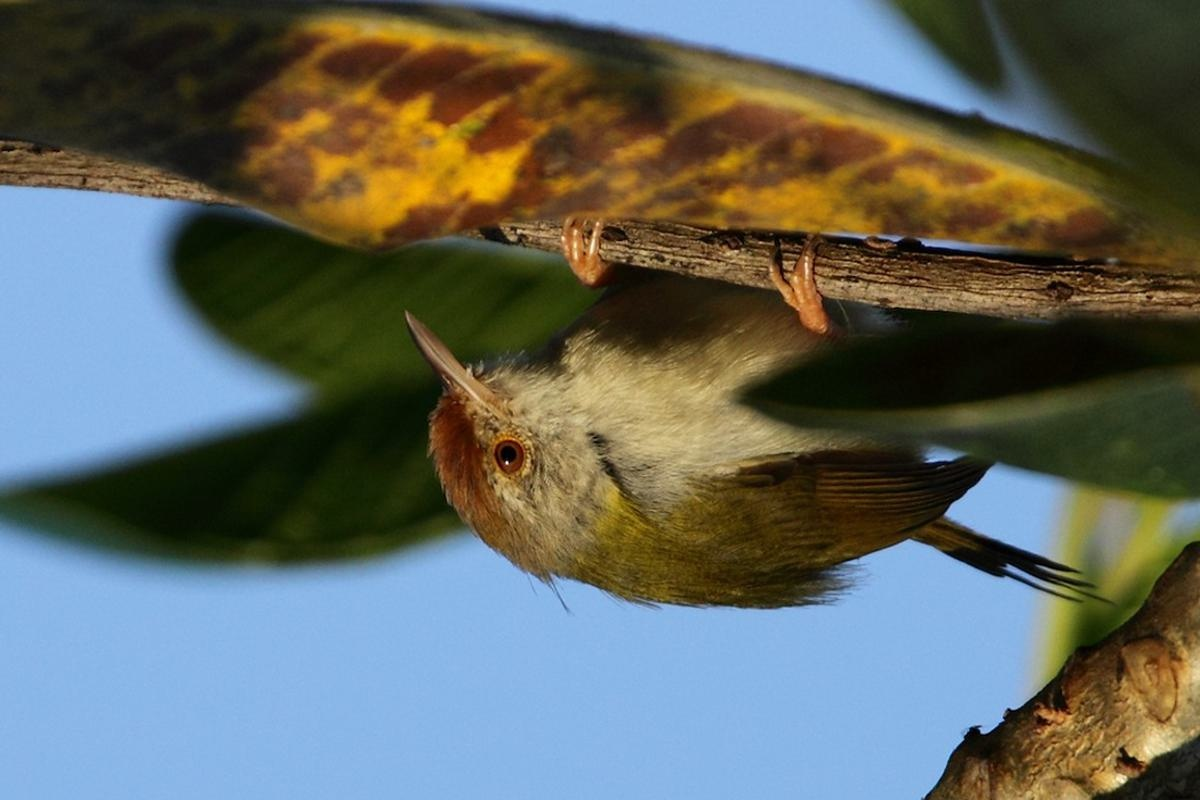tailorbird: (404, 357, 1119, 638)
